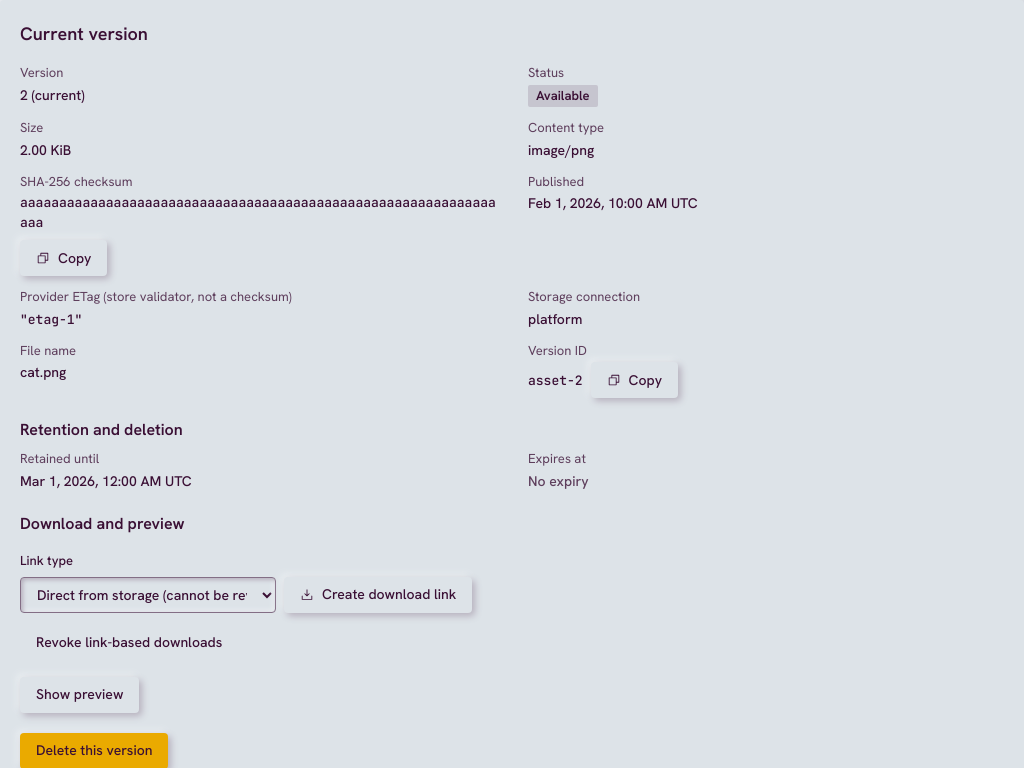
Test: VersionDetail › requires the typed path to delete a version
Click the button "Delete this version": [94, 750] box [20,732,168,767]
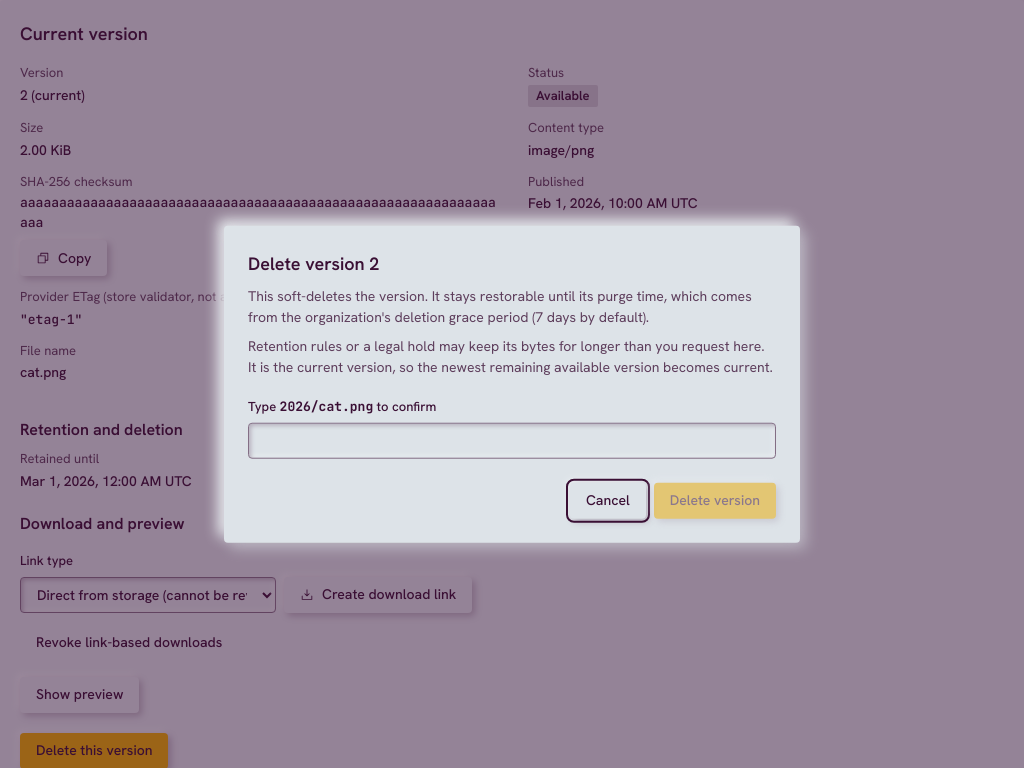
Expected: the button "Delete version" is disabled, [654,482,776,518]
Expected: the text "longer than you request" is shown, [248,337,765,355]
